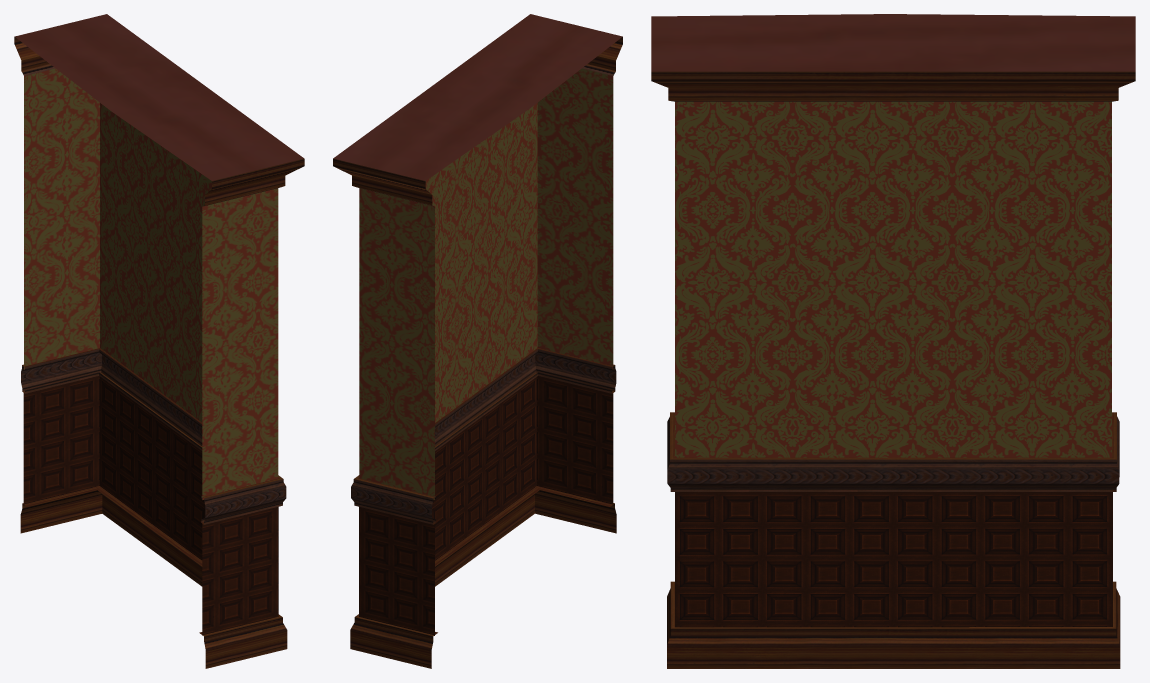
Rendered from Wall1_Outcrop.fbx.
3 views of the same model, side by side, from view 1: azimuth 30°, elevation 25°; view 2: azimuth 150°, elevation 25°; view 3: azimuth 270°, elevation 25° (orthographic). The views are drawn at different scales.
Parts seen in each view (by area): view 1: Wall Outie_Large; view 2: Wall Outie_Large; view 3: Wall Outie_Large.
Part boxes in pixels (left/top/right/bottom): Wall Outie_Large: left=14, top=14, right=304, bottom=668; Wall Outie_Large: left=333, top=14, right=622, bottom=668; Wall Outie_Large: left=651, top=14, right=1135, bottom=668.
Bounding box in the file's own units: 57.74 × 281 × 205.
